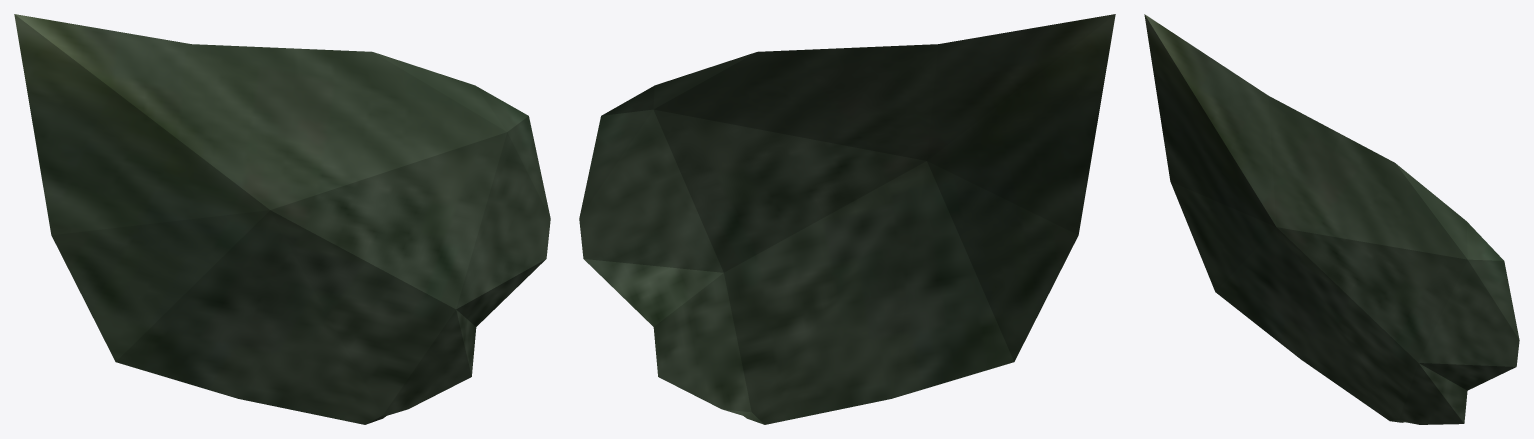
3 renders of one model, left to right at view 1: azimuth 30°, elevation 25°; view 2: azimuth 150°, elevation 25°; view 3: azimuth 330°, elevation 25°, orthographic. The views are drawn at different scales.
Size of the model in its own units: 2.58 by 2.28 by 0.2799.
1 material, 1 textured.
